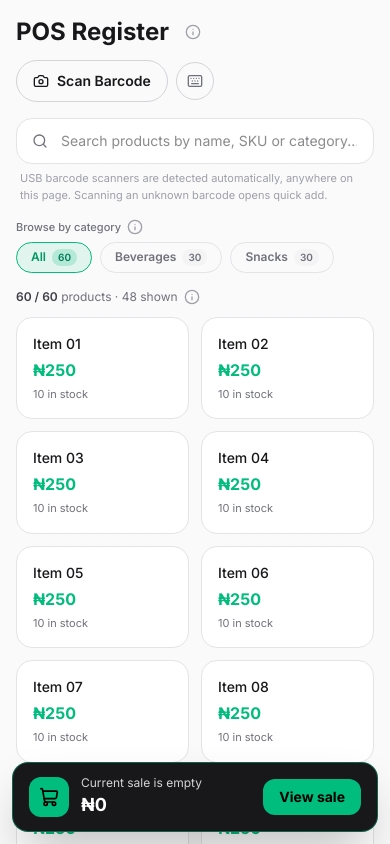
Test: POS: pagination › keeps the current sale reachable above a large catalogue
Click the button with aria-label "Item 01,". click: point(102, 368)
box: [16, 317, 189, 419]
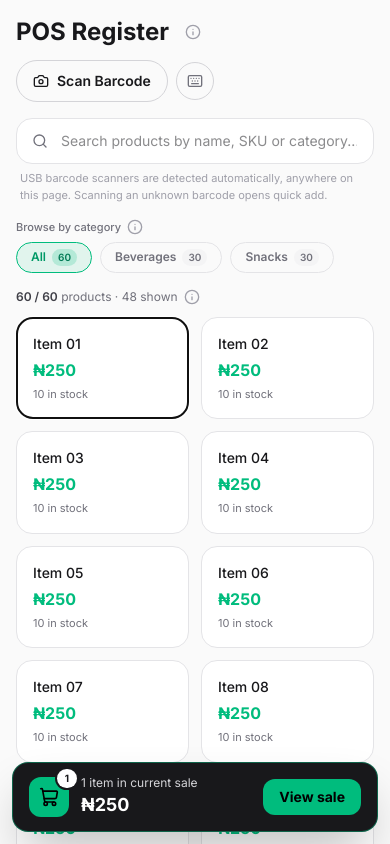
Click the button with aria-label "view current sale, 1 item,". click: point(49, 797)
box: [12, 762, 378, 832]
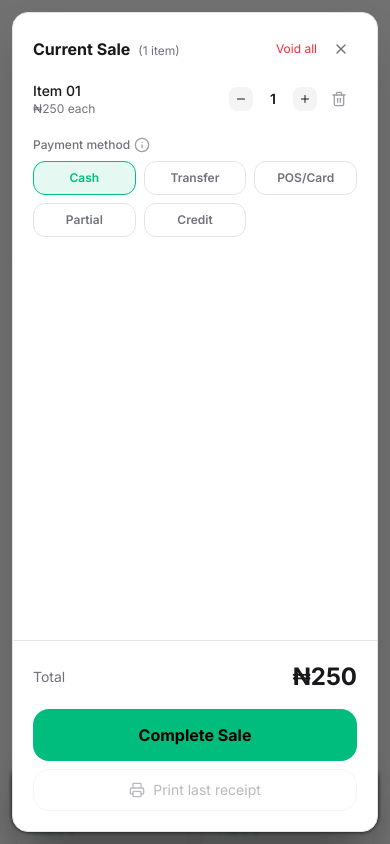
Expected: the dialog "Current Sale" is shown
Expected: the button "Complete Sale" is shown, [33, 709, 357, 761]
